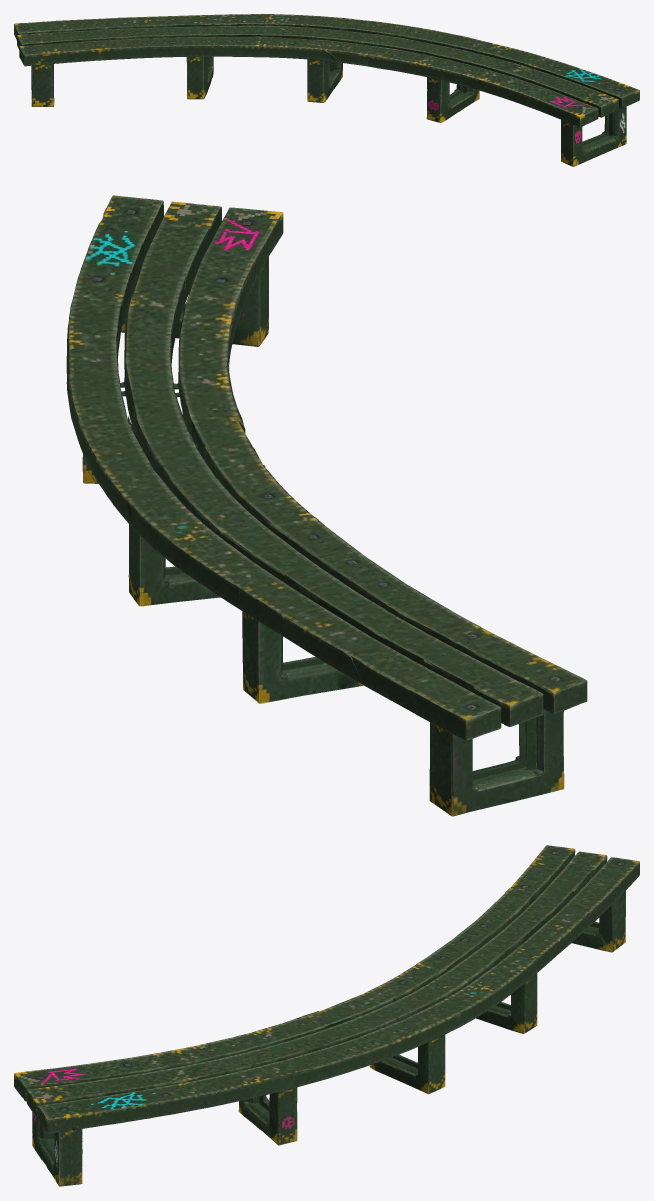
The model's file is curve_bridge.glb.
3 renders of one model, top to bottom at view 1: azimuth 30°, elevation 25°; view 2: azimuth 150°, elevation 25°; view 3: azimuth 270°, elevation 25°, orthographic. The views are drawn at different scales.
Visible parts, largest first — view 1: mesh_node; view 2: mesh_node; view 3: mesh_node.
Boxes of the visible parts, x1=… form: mesh_node: x1=14, y1=14, x2=639, y2=166; mesh_node: x1=66, y1=195, x2=587, y2=816; mesh_node: x1=14, y1=845, x2=639, y2=1186.
Bounding box in the file's own units: 1.9 × 0.2372 × 1.83.
1 material, 1 textured.
